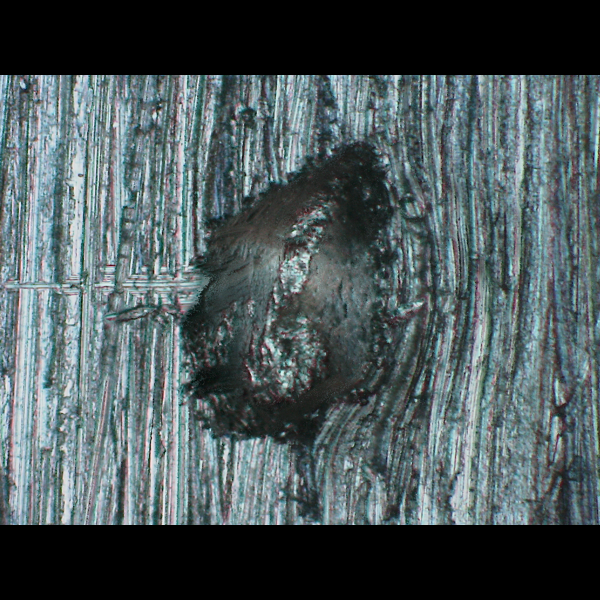d: (123, 129, 449, 464)
